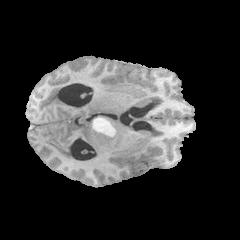glioma: (86, 116, 120, 149)
